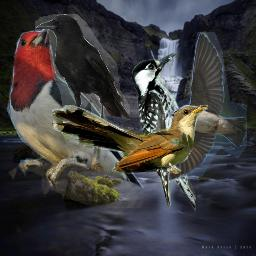Crow: (35, 14, 131, 128)
Cuckoo: (52, 105, 208, 174)
Swallow: (168, 32, 247, 181)
Woodpecker: (2, 18, 152, 208), (131, 52, 196, 211)
